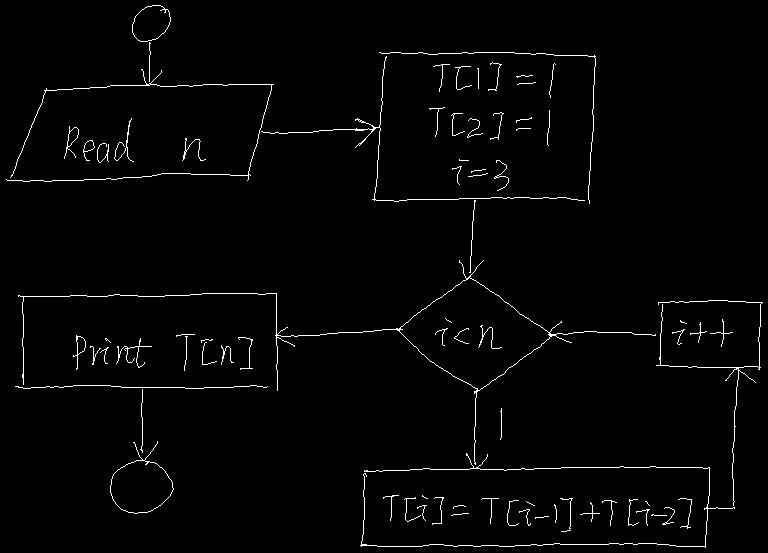arrow: (704, 368, 755, 509), (261, 118, 378, 147), (275, 327, 402, 346), (548, 321, 655, 342), (459, 200, 483, 279), (133, 389, 157, 460), (466, 390, 487, 468), (141, 42, 161, 84)
connection: (110, 460, 173, 513), (132, 5, 170, 41)
data: (6, 84, 273, 181)
decision: (396, 276, 554, 393)
process: (372, 52, 595, 203), (360, 466, 709, 547), (15, 293, 277, 390), (656, 300, 762, 369)
text: (429, 62, 555, 190), (383, 495, 691, 531), (73, 334, 252, 370), (64, 118, 205, 162), (435, 318, 501, 348), (672, 319, 732, 346), (499, 408, 502, 439)
